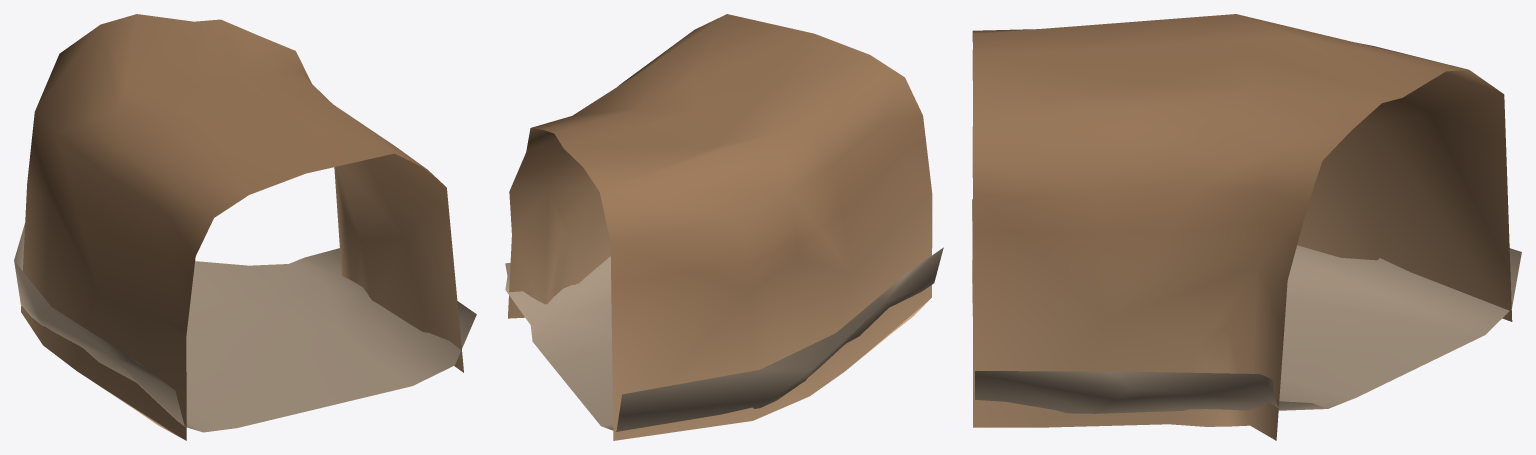
File: Mines Tunel Curve Half.glb
3 views of the same model, side by side, from view 1: azimuth 30°, elevation 25°; view 2: azimuth 150°, elevation 25°; view 3: azimuth 270°, elevation 25° (orthographic). The views are drawn at different scales.
Visible parts, largest first — view 1: Mines Tunel Curve Half, Mines Tunel Ground Curve Half; view 2: Mines Tunel Curve Half, Mines Tunel Ground Curve Half; view 3: Mines Tunel Curve Half, Mines Tunel Ground Curve Half.
Part boxes in pixels (x1,y1,x2,y2): Mines Tunel Curve Half: [21, 14, 463, 440]; Mines Tunel Ground Curve Half: [14, 223, 476, 432]; Mines Tunel Curve Half: [508, 14, 932, 440]; Mines Tunel Ground Curve Half: [505, 247, 943, 431]; Mines Tunel Curve Half: [972, 14, 1512, 440]; Mines Tunel Ground Curve Half: [972, 199, 1521, 413].
Size of what is drawn, in the model's own units: 4.76 by 3.44 by 5.98.
Materials: 1 (1 with a texture image).
